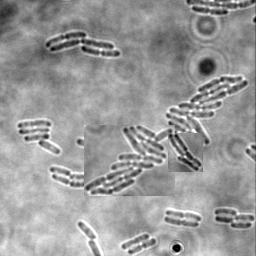Dividing: (128, 238, 157, 255), (166, 209, 202, 222), (52, 175, 84, 189), (164, 217, 200, 228), (192, 7, 229, 17)
Microcolony: (158, 76, 249, 147), (84, 125, 175, 196), (45, 32, 121, 57), (18, 120, 61, 155), (168, 133, 203, 172), (214, 208, 255, 229)
Rod: (121, 233, 150, 251), (78, 222, 99, 240), (50, 167, 72, 177), (69, 174, 84, 183)
